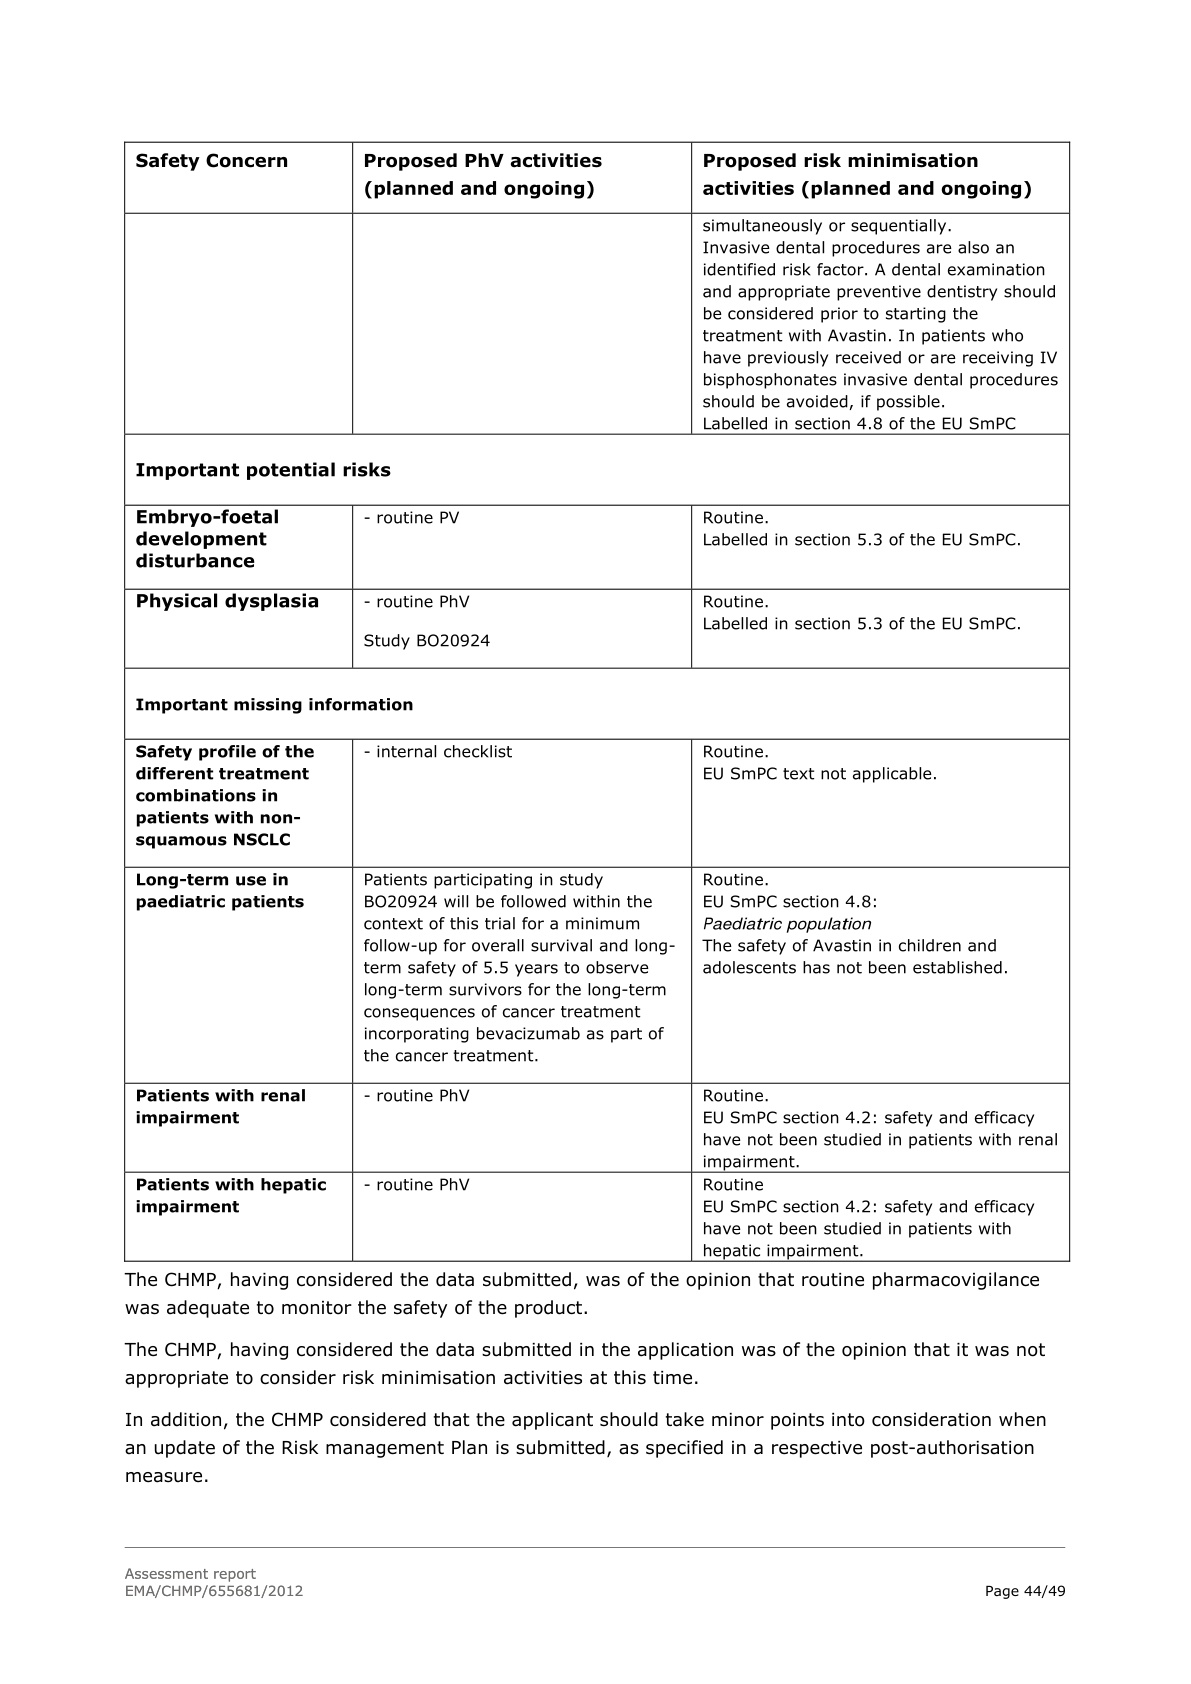merged_cells: (124, 140, 1071, 1261)
